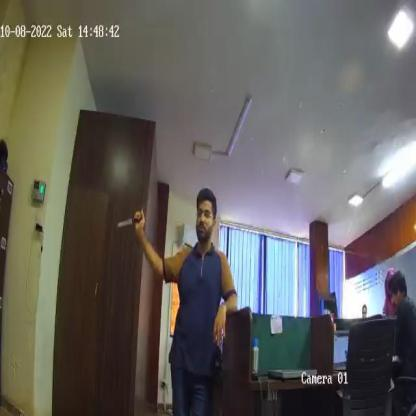Knife: (116, 209, 144, 232)
